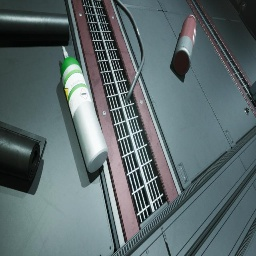0: (61, 46, 108, 173)
NitrogenTank ,: (173, 15, 197, 75)
